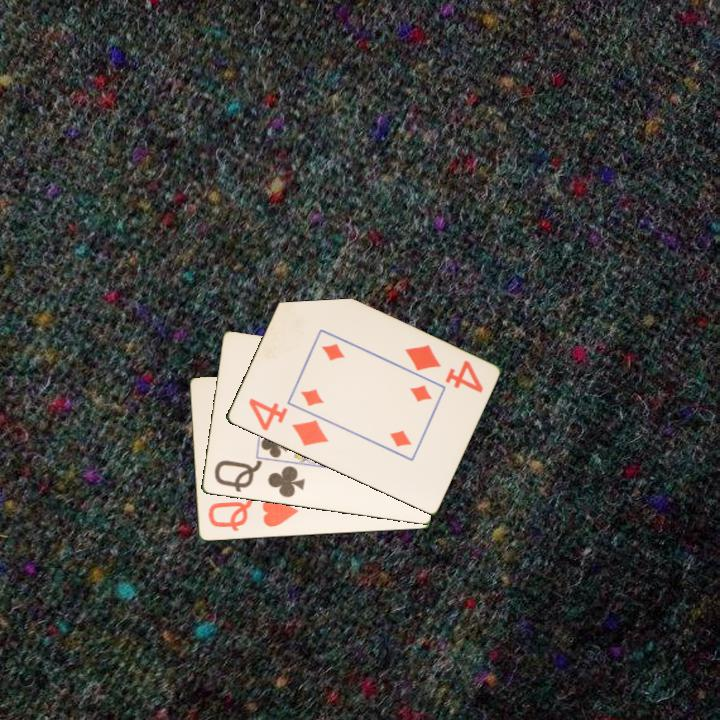4d: (244, 394, 331, 450), (400, 341, 486, 396)
Qc: (210, 457, 307, 501)
Qh: (204, 495, 300, 535)
